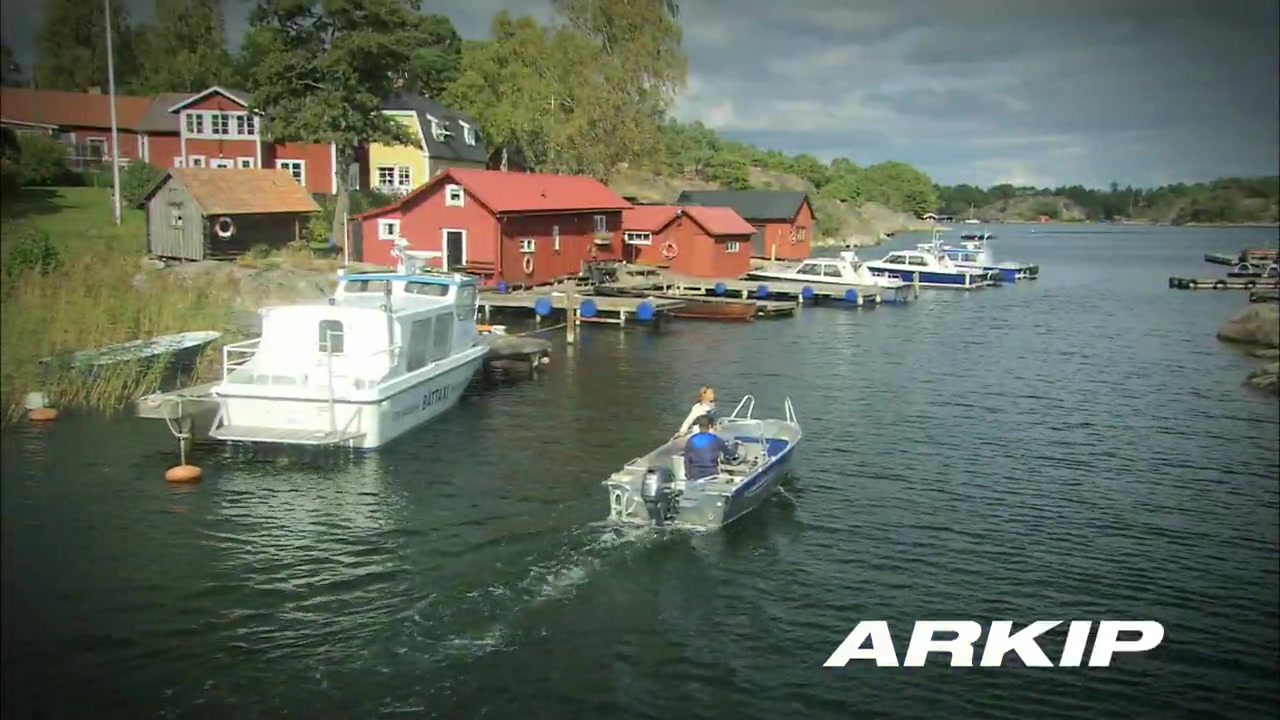boat: (602, 394, 806, 540)
